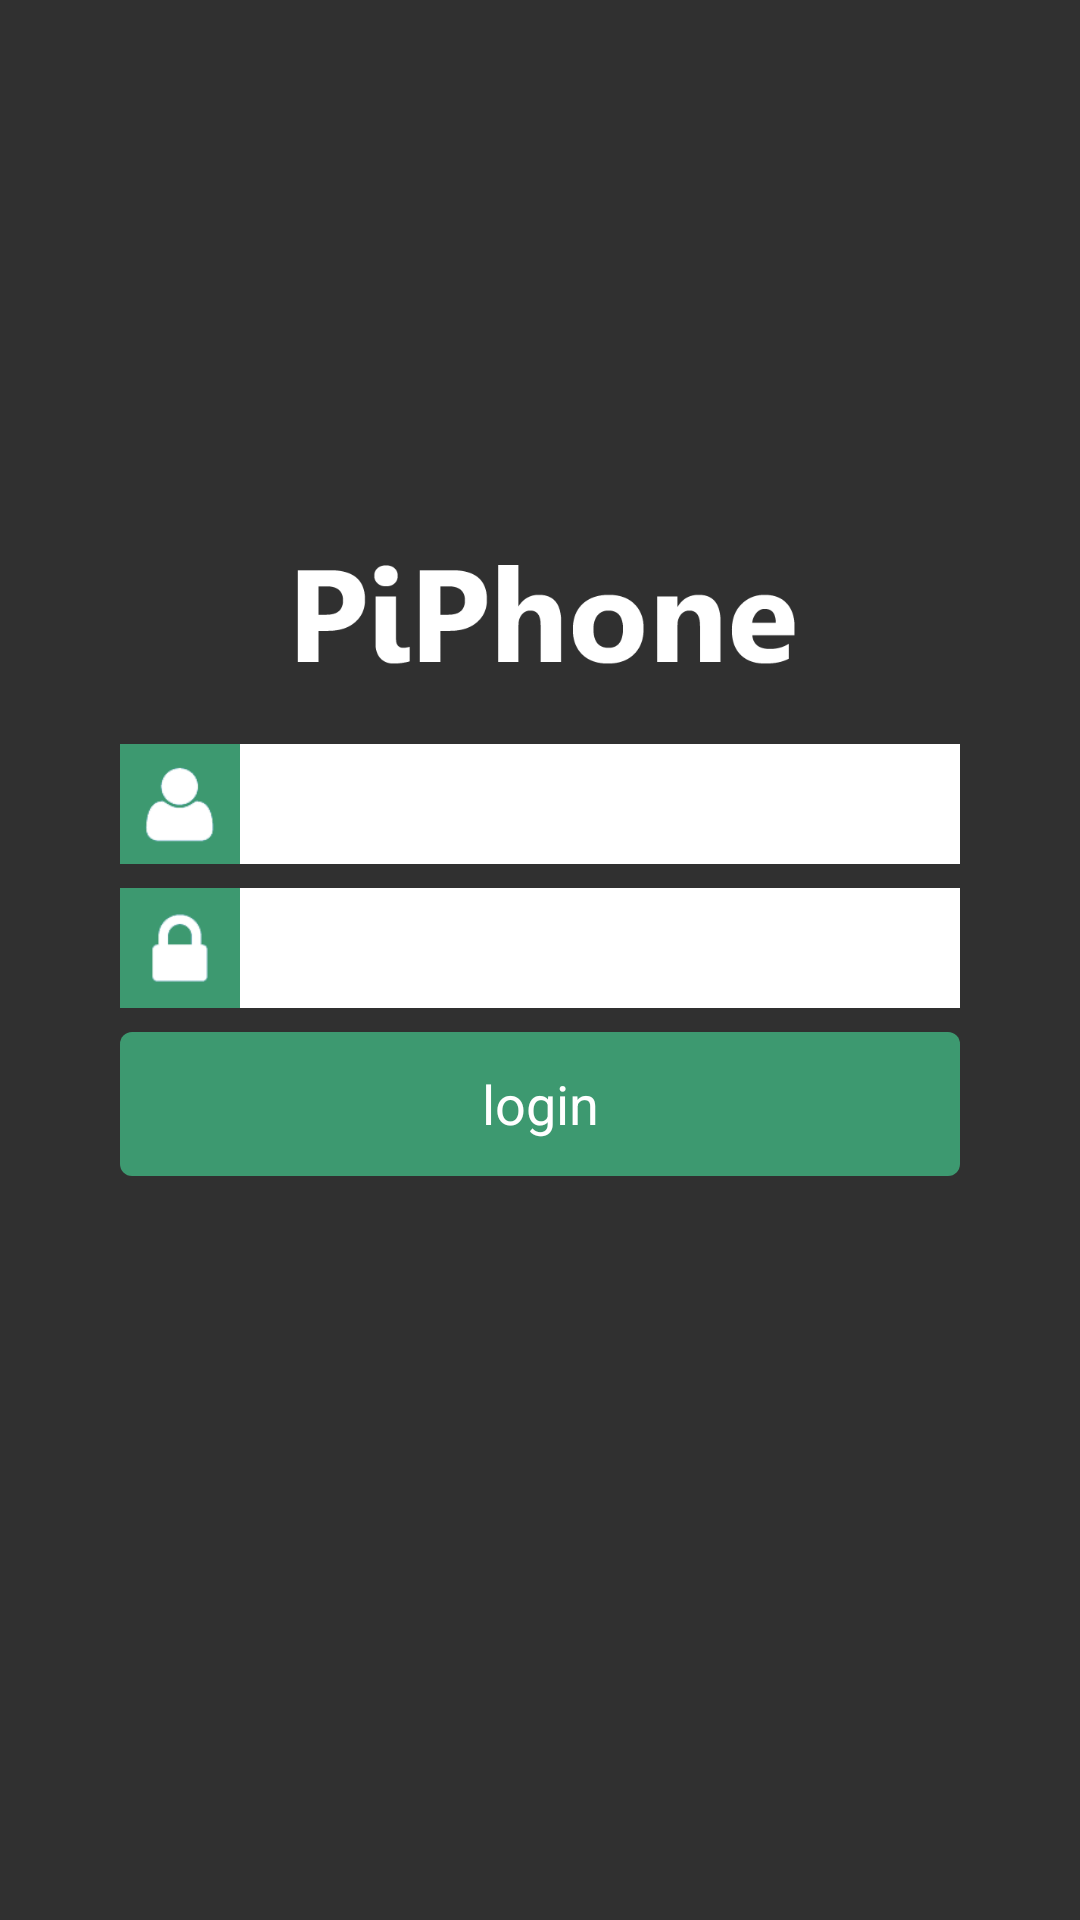

Named icons in this screenshot (1080 x 1920) and their centers, point (x, y):
password: point (180, 948)
username: point (180, 804)
